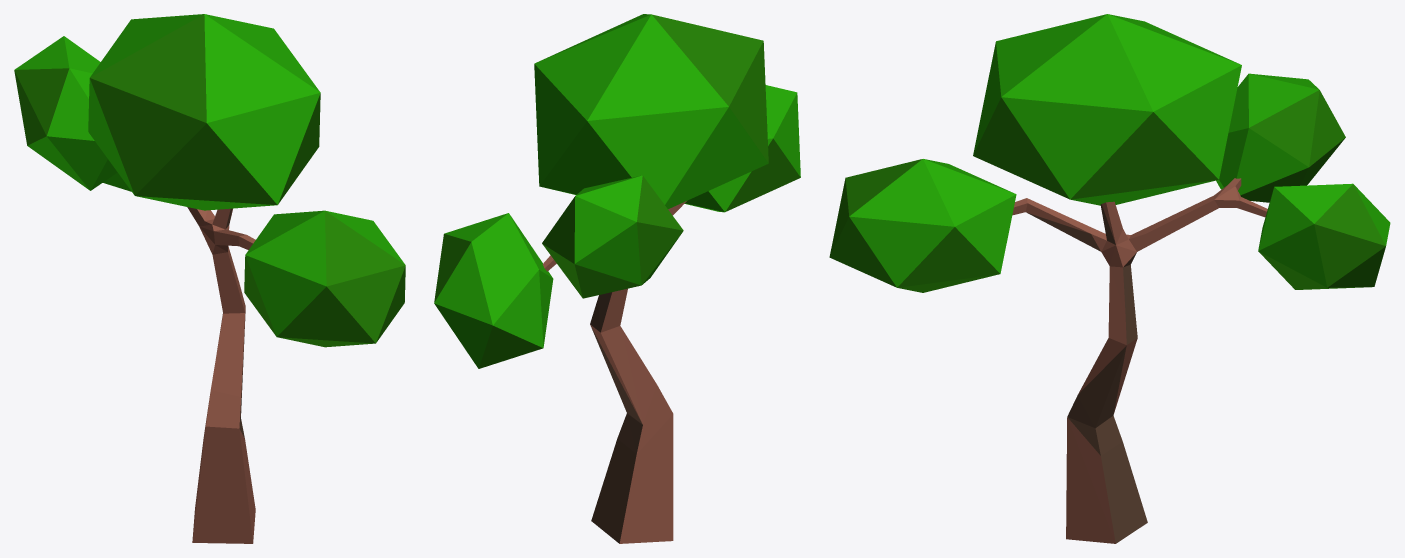
Rendered from TreeLeaves_01.fbx.
The picture shows the model from 3 angles, left to right: view 1: azimuth 30°, elevation 25°; view 2: azimuth 150°, elevation 25°; view 3: azimuth 270°, elevation 25°; orthographic projection. The views are drawn at different scales.
Visible parts, largest first — view 1: Icosphere.001, Icosphere, TreeLeaves_01, Icosphere.002; view 2: Icosphere.001, Icosphere.003, TreeLeaves_01, Icosphere.002, Icosphere; view 3: Icosphere.001, Icosphere, TreeLeaves_01, Icosphere.003, Icosphere.002.
Boxes of the visible parts, x1=… form: Icosphere.001: x1=88, y1=14, x2=320, y2=210; Icosphere: x1=244, y1=210, x2=405, y2=347; TreeLeaves_01: x1=187, y1=207, x2=255, y2=543; Icosphere.002: x1=14, y1=36, x2=117, y2=190; Icosphere.001: x1=534, y1=14, x2=768, y2=209; Icosphere.003: x1=434, y1=213, x2=553, y2=368; TreeLeaves_01: x1=542, y1=201, x2=686, y2=543; Icosphere.002: x1=542, y1=175, x2=683, y2=298; Icosphere: x1=684, y1=85, x2=800, y2=212; Icosphere.001: x1=973, y1=14, x2=1241, y2=205; Icosphere: x1=829, y1=159, x2=1016, y2=292; TreeLeaves_01: x1=1012, y1=178, x2=1267, y2=543; Icosphere.003: x1=1258, y1=183, x2=1390, y2=289; Icosphere.002: x1=1216, y1=73, x2=1345, y2=202.
Bounding box in the file's own units: 44.05 × 112 × 111.
